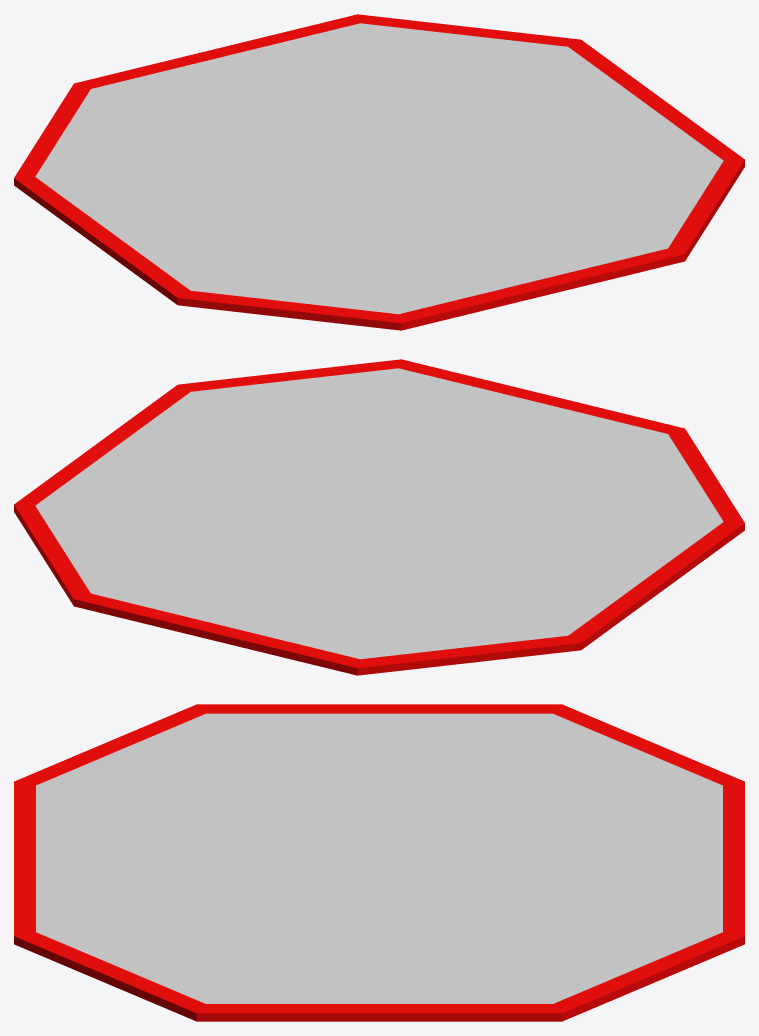
Rendered from stand.fbx.
The picture shows the model from 3 angles, top to bottom: view 1: azimuth 30°, elevation 25°; view 2: azimuth 150°, elevation 25°; view 3: azimuth 270°, elevation 25°; orthographic projection. The views are drawn at different scales.
Parts seen in each view (by area): view 1: Stand; view 2: Stand; view 3: Stand.
Boxes of the visible parts, x1,y1,x2,y2 form: Stand: (14,14,744,330); Stand: (14,359,744,675); Stand: (14,704,744,1021).
Bounding box in the file's own units: 400 × 400 × 5.
